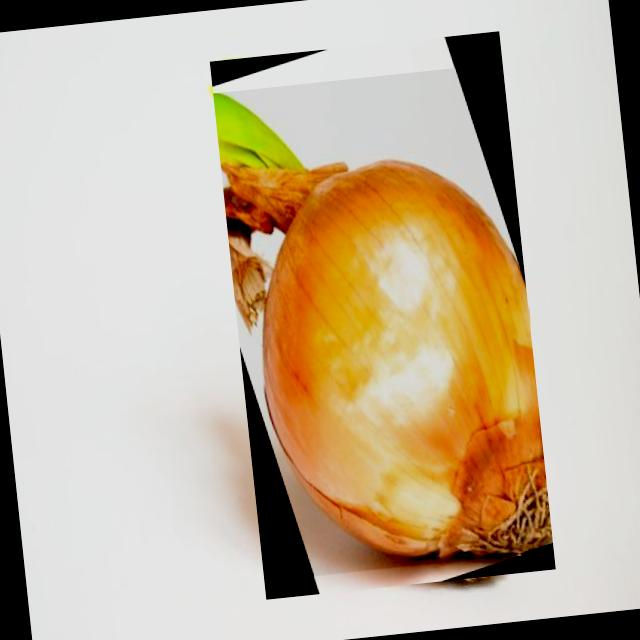sprouting: (213, 94, 552, 559)
